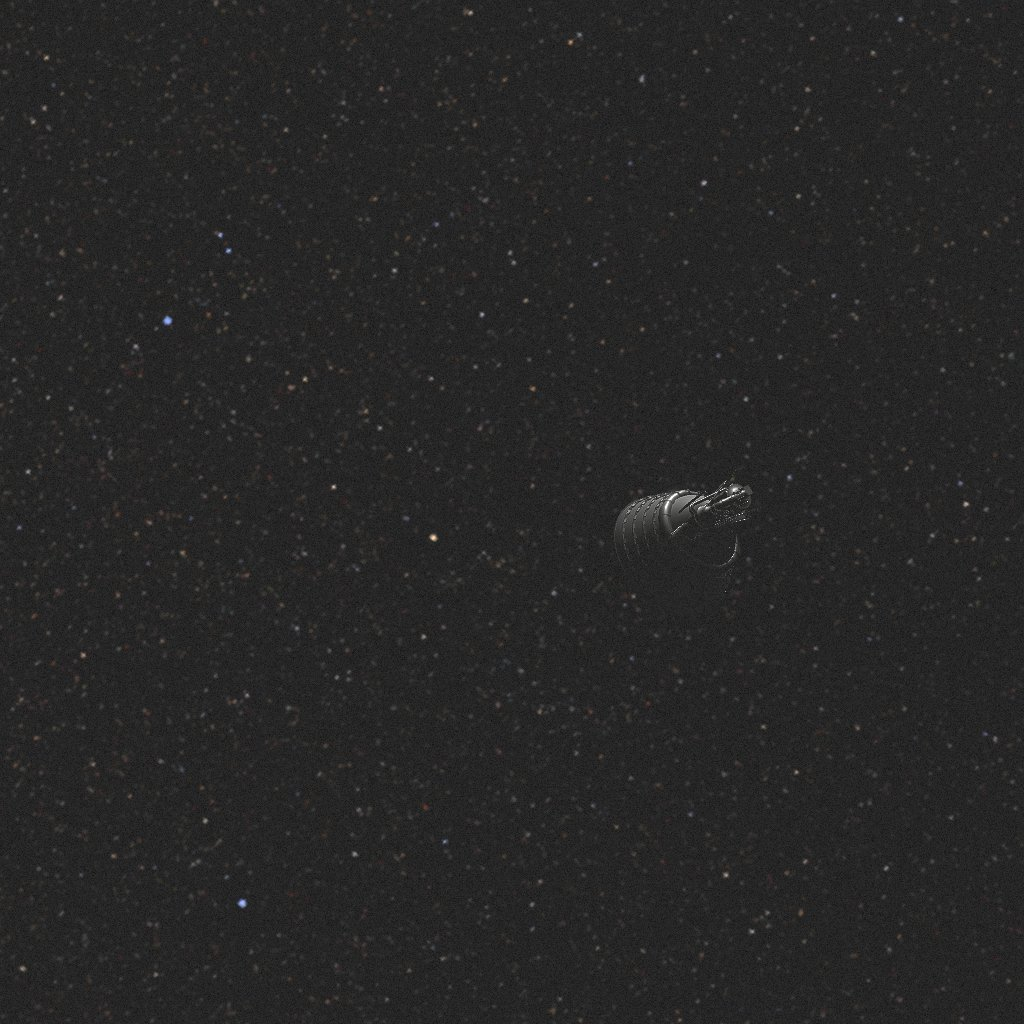debris: (599, 477, 756, 603)
